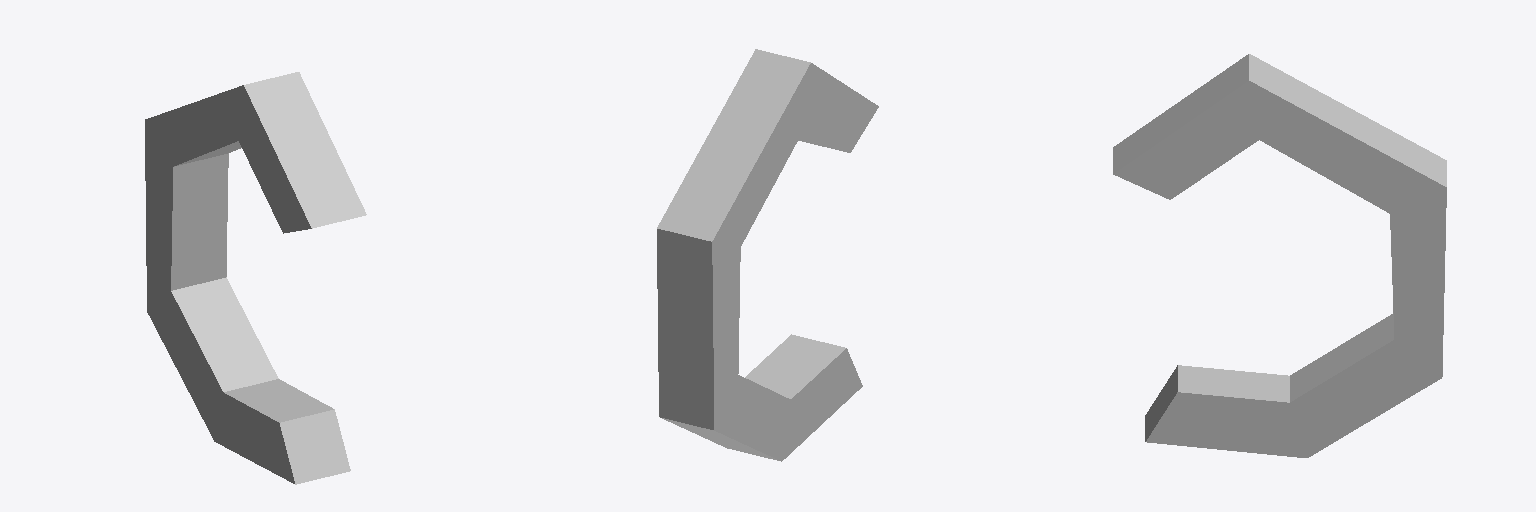
File: Pipe14.obj
3 views of the same model, side by side, from view 1: azimuth 30°, elevation 25°; view 2: azimuth 150°, elevation 25°; view 3: azimuth 270°, elevation 25° (orthographic).
Parts seen in each view (by area): view 1: Pipe14; view 2: Pipe14; view 3: Pipe14.
Part boxes in pixels (x1,y1,x2,y2): Pipe14: (145, 72, 366, 484); Pipe14: (657, 49, 878, 461); Pipe14: (1113, 54, 1446, 457).
Size of the model in its own units: 1 by 6.51 by 5.22.